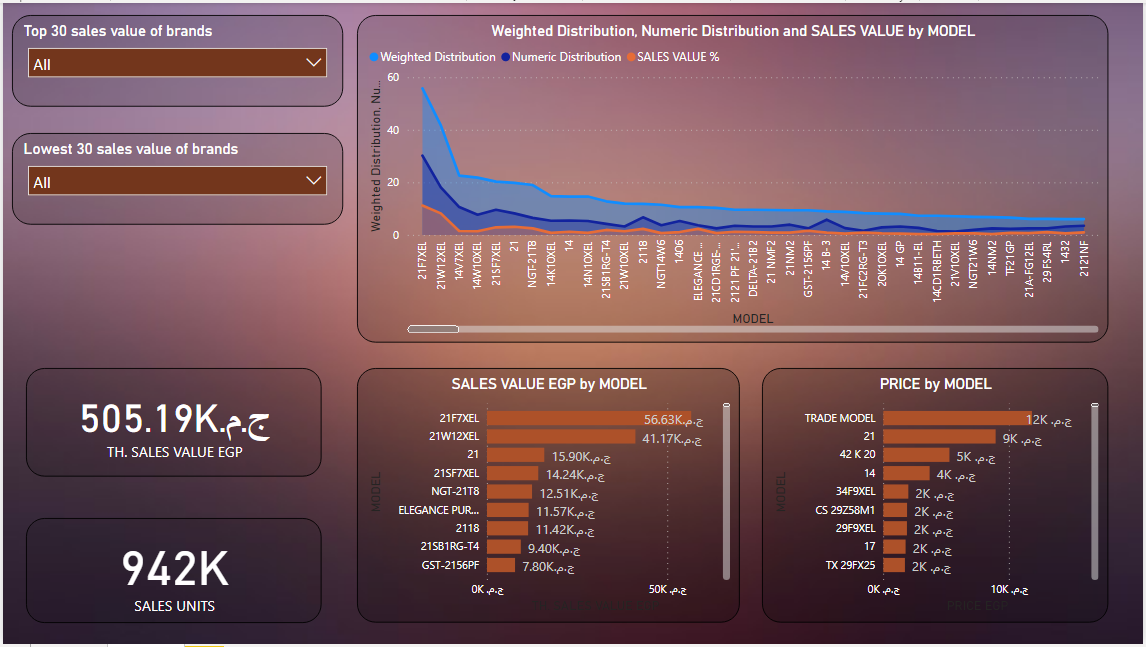

What the dashboard file says about the page in this screenshot:
{"tool":"powerbi","page":{"name":"Page 2","canvas":[1280,720],"ordinal":1},"visuals":[{"type":"barChart","title":"SALES VALUE EGP by MODEL","fields":{"Y":["Sum(CRT TV 2012.TH. SALES VALUE EGP)"],"Category":["CRT TV 2012.MODEL"]},"box":[397.6,410,430.2,286.4],"z":0},{"type":"card","fields":{"Values":["Sum(CRT TV 2012.SALES UNITS)"]},"box":[25.8,578.5,332.5,117.9],"z":1000},{"type":"barChart","title":"PRICE by MODEL","fields":{"Category":["CRT TV 2012.MODEL"],"Y":["Sum(CRT TV 2012.PRICE EGP)"]},"box":[852.5,410,388.6,286.4],"z":2000},{"type":"slicer","title":"Top 30 sales value of brands","fields":{"Values":["CRT TV 2012.Brand name"]},"box":[10.1,13.5,371.8,103.3],"z":3000},{"type":"areaChart","title":"Weighted Distribution, Numeric Distribution and SALES VALUE  by MODEL","fields":{"Category":["CRT TV 2012.MODEL"],"Y":["Sum(CRT TV 2012.Weighted Distribution)","Sum(CRT TV 2012.Numeric Distribution)","Sum(CRT TV 2012.SALES VALUE %)"]},"box":[397.6,13.5,843.6,368.4],"z":4000},{"type":"card","fields":{"Values":["Sum(CRT TV 2012.TH. SALES VALUE EGP)"]},"box":[25.8,410,332.5,122.4],"z":5000},{"type":"slicer","title":"Lowest 30 sales value of brands","fields":{"Values":["CRT TV 2012.Brand name"]},"box":[10.1,146,371.8,103.3],"z":6000}]}

Visuals, with their boxes in screenshot pixels (x1, y1, x2, y2), scaled from the page's 1280x720 canvas onto the 1146x647 screenshot:
"SALES VALUE EGP by MODEL" barChart: <box>356,368,741,626</box>
card - Sum(CRT TV 2012.SALES UNITS): <box>23,520,321,626</box>
"PRICE by MODEL" barChart: <box>763,368,1111,626</box>
"Top 30 sales value of brands" slicer: <box>9,12,342,105</box>
"Weighted Distribution, Numeric Distribution and SALES VALUE  by MODEL" areaChart: <box>356,12,1111,343</box>
card - Sum(CRT TV 2012.TH. SALES VALUE EGP): <box>23,368,321,478</box>
"Lowest 30 sales value of brands" slicer: <box>9,131,342,224</box>
